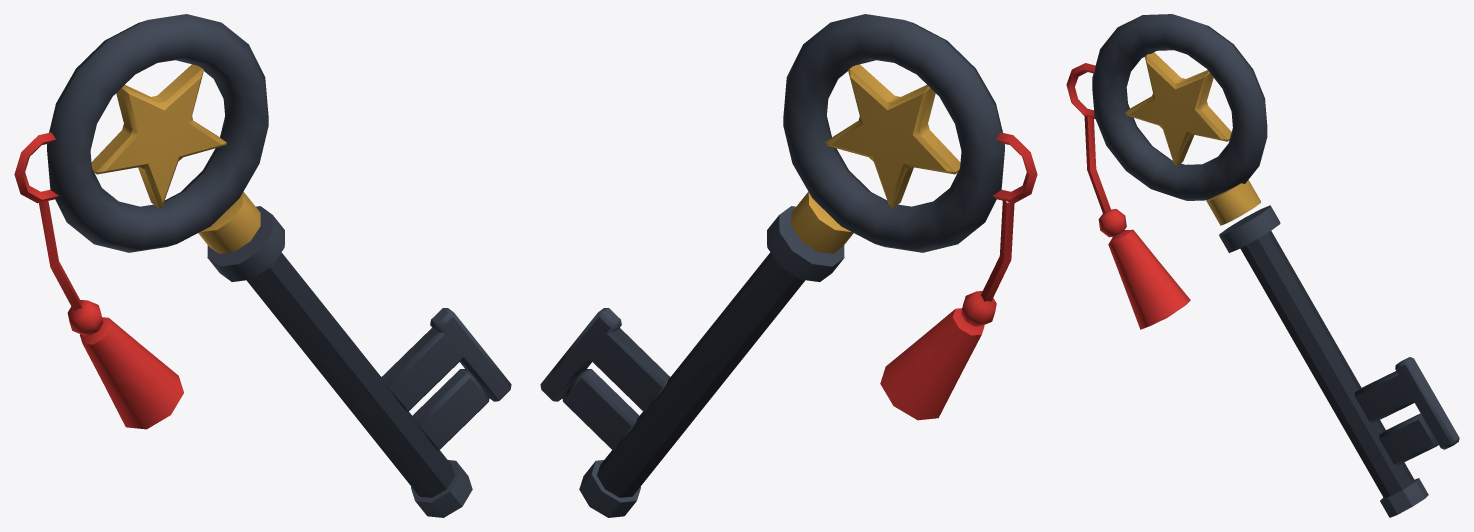
Rendered from key.glb.
The picture shows the model from 3 angles, left to right: view 1: azimuth 30°, elevation 25°; view 2: azimuth 150°, elevation 25°; view 3: azimuth 330°, elevation 25°; orthographic projection. The views are drawn at different scales.
Visible parts, largest first — view 1: Key Iron, Key Brass, Key Fabric red; view 2: Key Iron, Key Brass, Key Fabric red; view 3: Key Iron, Key Brass, Key Fabric red.
Boxes of the visible parts, <box> form: Key Iron: <box>47,14,511,517</box>; Key Brass: <box>91,64,260,253</box>; Key Fabric red: <box>14,132,183,429</box>; Key Iron: <box>540,14,1004,517</box>; Key Brass: <box>791,64,960,253</box>; Key Fabric red: <box>880,132,1037,420</box>; Key Iron: <box>1092,14,1459,517</box>; Key Brass: <box>1124,52,1260,225</box>; Key Fabric red: <box>1066,63,1190,329</box>.
Size of the model in its own units: 0.2754 by 0.3008 by 0.043.
